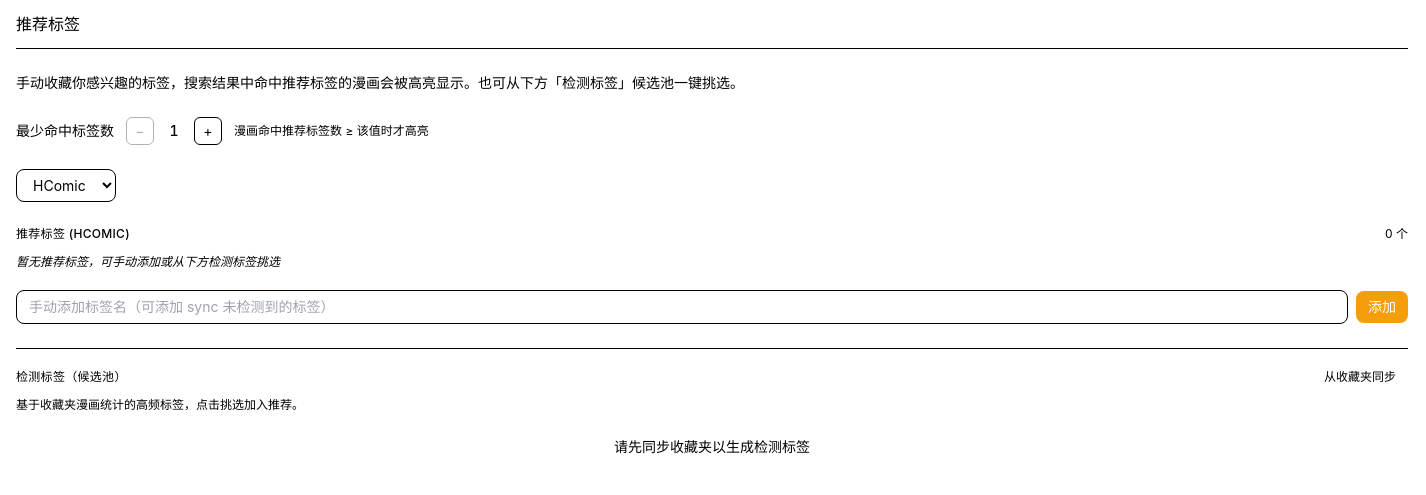
FavouriteTagSettings - 推荐标签 / 检测标签双区 › 手动输入空字符串显示错误提示
The image size is (1426, 495).
Click the button "添加" at (1382, 307), box x1=1356 y1=291 x2=1408 y2=323
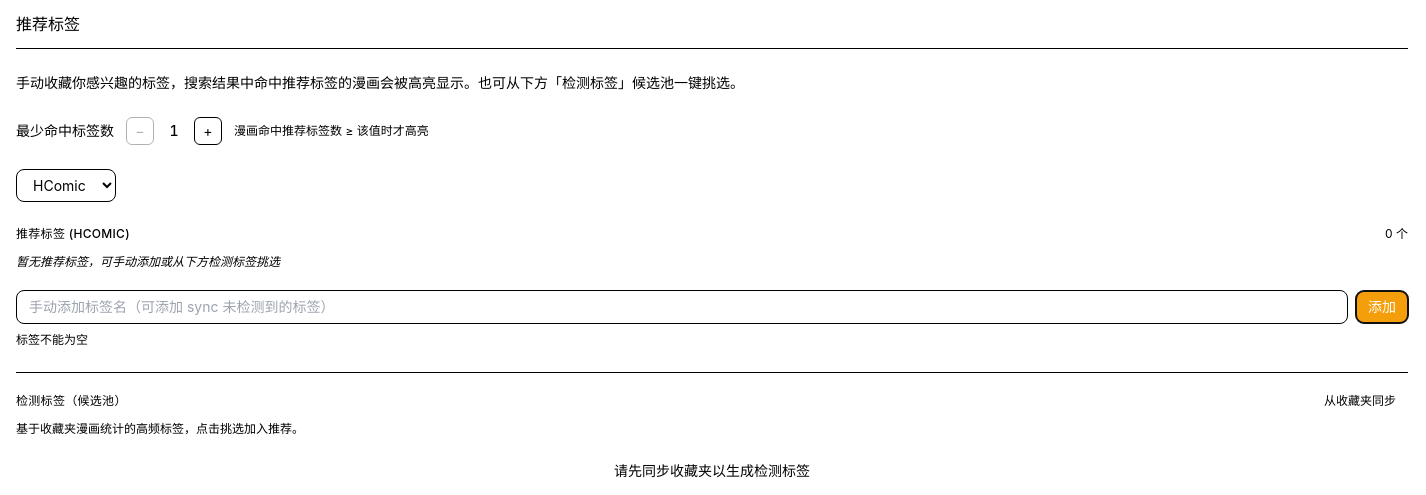
Expected: the text "标签不能为空" is shown, x1=16 y1=332 x2=88 y2=347
